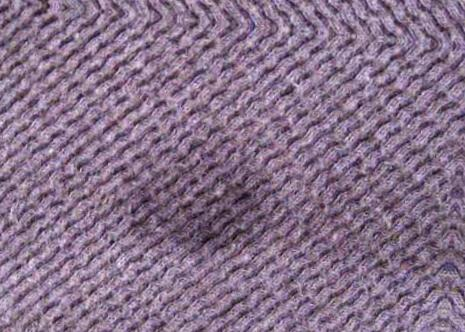stain: (118, 148, 275, 264)
